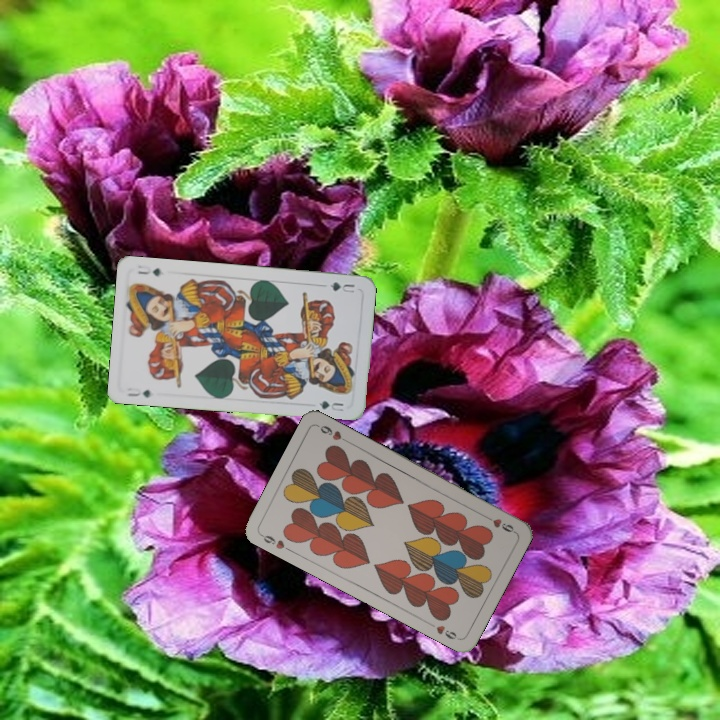GU: (326, 278, 357, 295), (122, 385, 153, 400)
H9: (257, 530, 294, 555), (480, 511, 518, 535)
